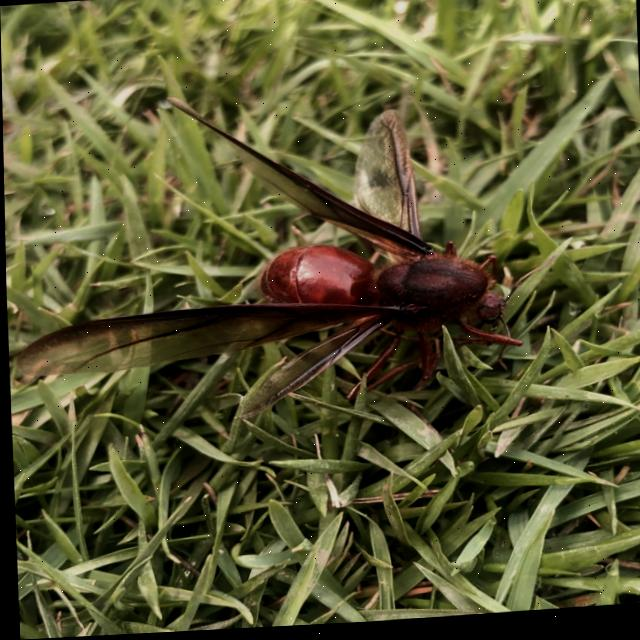Dead-Male-Alate: (2, 72, 580, 435)
